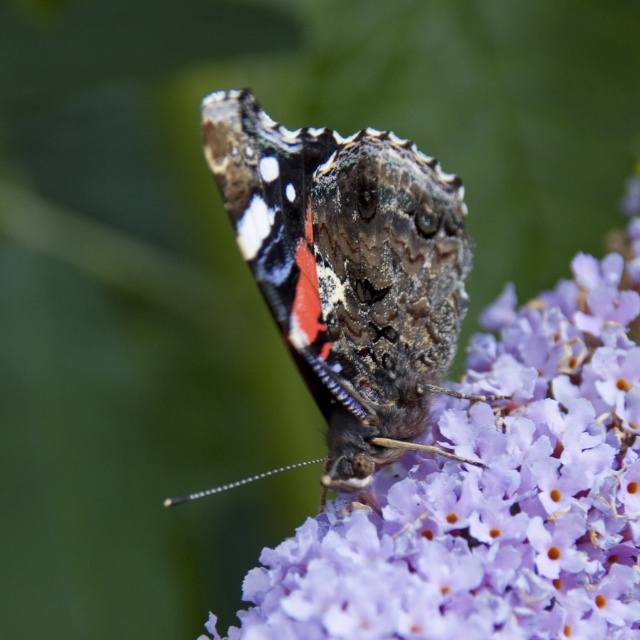Butterfly: (161, 86, 515, 508)
